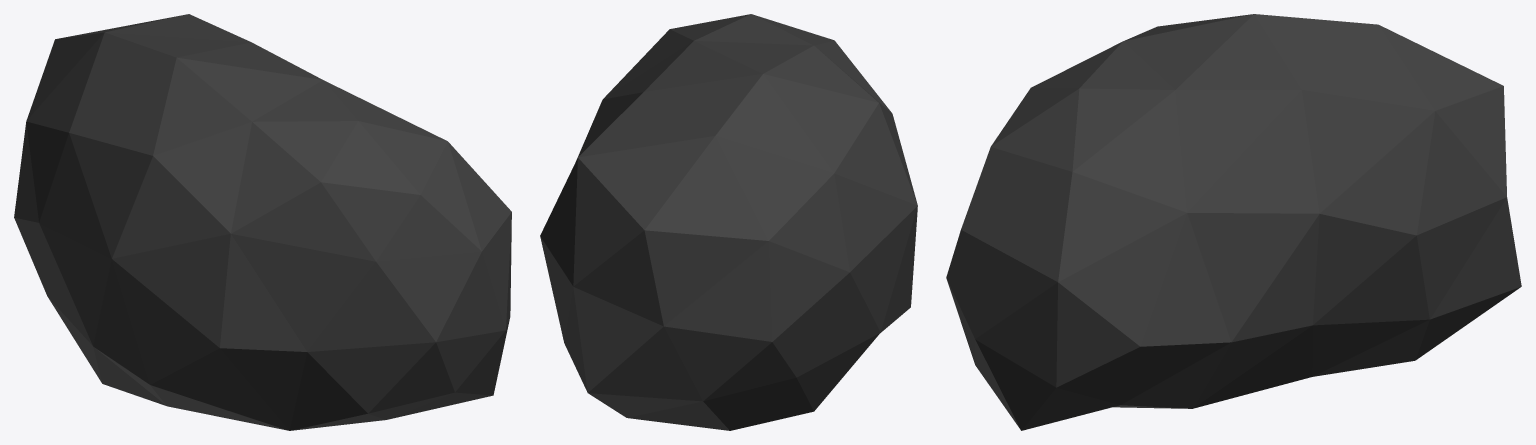
The model's file is Dorsal_sesamoid_3.glb.
The picture shows the model from 3 angles, left to right: view 1: azimuth 30°, elevation 25°; view 2: azimuth 150°, elevation 25°; view 3: azimuth 270°, elevation 25°; orthographic projection. The views are drawn at different scales.
Visible parts, largest first — view 1: Dorsal_sesamoid_3; view 2: Dorsal_sesamoid_3; view 3: Dorsal_sesamoid_3.
Part boxes in pixels (box(x1,y1,x2,y2)): Dorsal_sesamoid_3: box(14, 14, 511, 430); Dorsal_sesamoid_3: box(540, 14, 917, 430); Dorsal_sesamoid_3: box(946, 14, 1521, 430).
Size of the model in its own units: 0.0347 by 0.0307 by 0.0464.
Materials: 1 (1 with a texture image).
